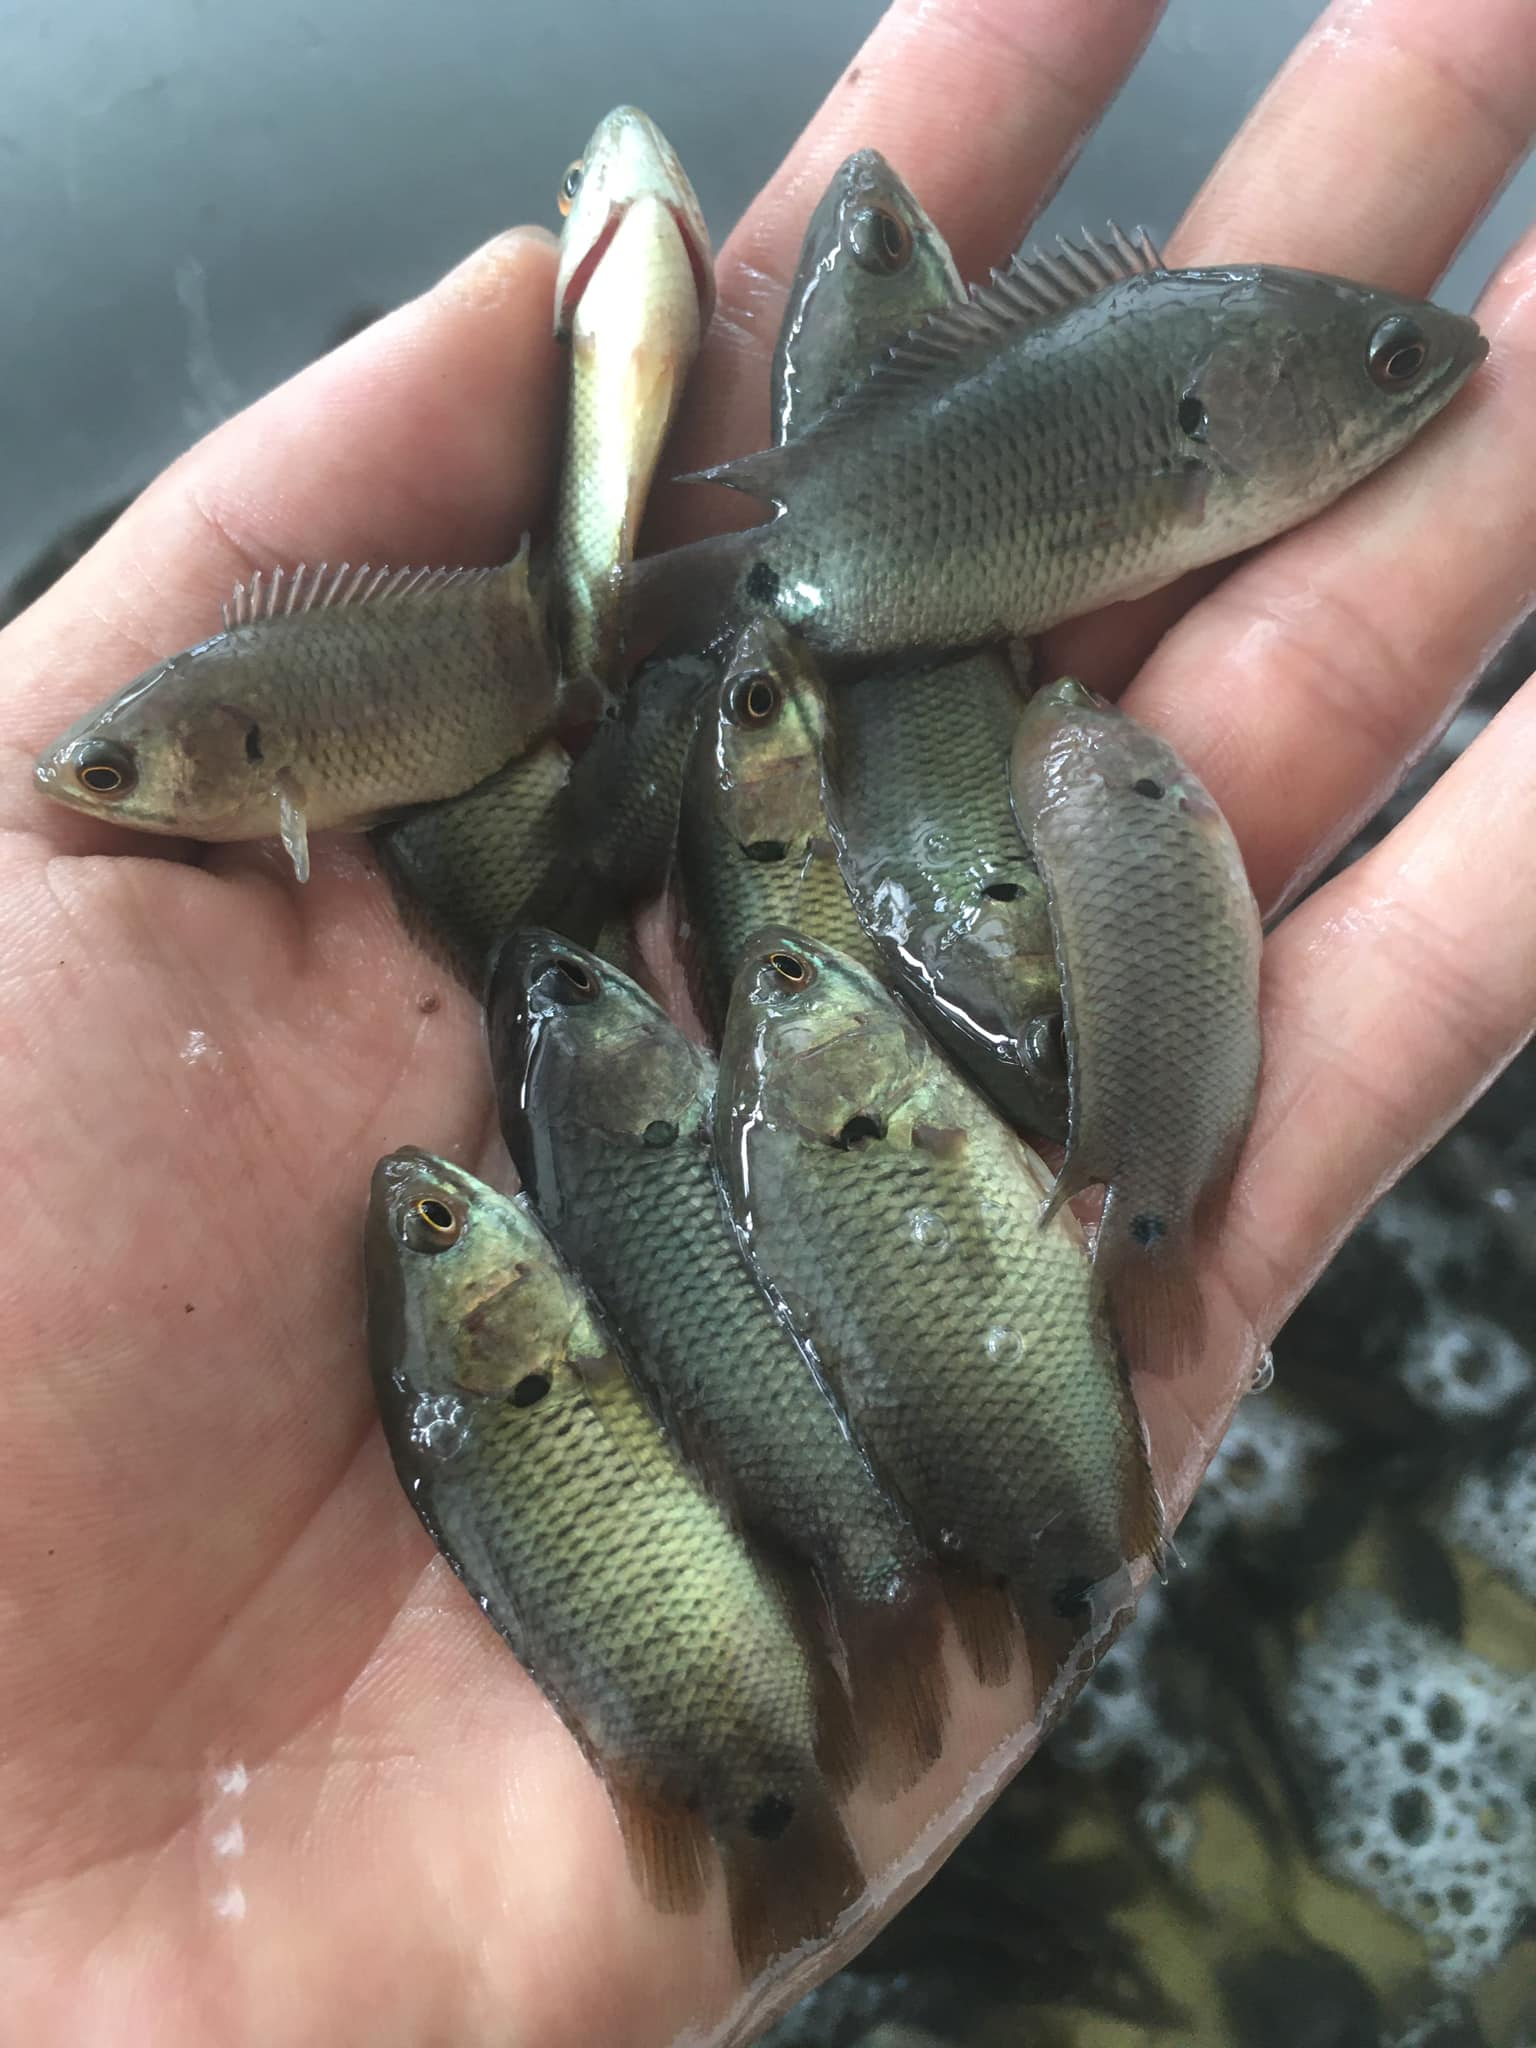fish: (316, 1143, 603, 1516), (60, 645, 457, 840), (1158, 248, 1478, 456), (705, 935, 942, 1213), (489, 943, 708, 1235), (541, 110, 708, 402), (878, 868, 1081, 1105), (1013, 664, 1189, 900), (686, 618, 841, 860), (786, 153, 957, 361)
